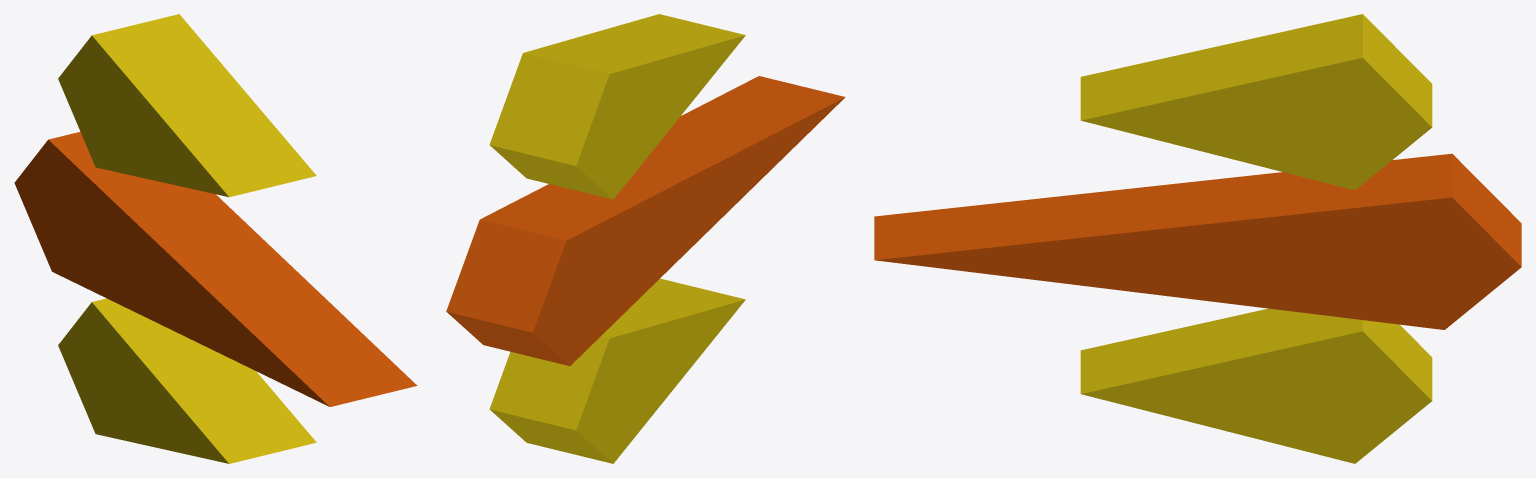
The model's file is energy_power_up.fbx.
3 views of the same model, side by side, from view 1: azimuth 30°, elevation 25°; view 2: azimuth 150°, elevation 25°; view 3: azimuth 270°, elevation 25° (orthographic). The views are drawn at different scales.
Parts seen in each view (by area): view 1: Cube, Cube.001, Cube.002; view 2: Cube, Cube.001, Cube.002; view 3: Cube, Cube.001, Cube.002.
Boxes of the visible parts, x1,y1,x2,y2 form: Cube: [14, 131, 417, 406]; Cube.001: [58, 14, 316, 197]; Cube.002: [58, 298, 316, 463]; Cube: [446, 76, 845, 365]; Cube.001: [489, 14, 745, 199]; Cube.002: [489, 278, 745, 463]; Cube: [874, 153, 1521, 329]; Cube.001: [1080, 14, 1432, 190]; Cube.002: [1080, 308, 1432, 463].
Size of the model in its own units: 57.92 by 250 by 362.
